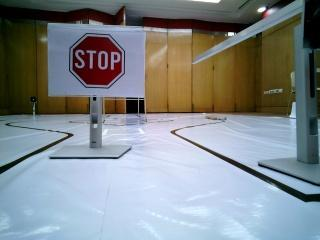stop: (56, 26, 147, 100)
